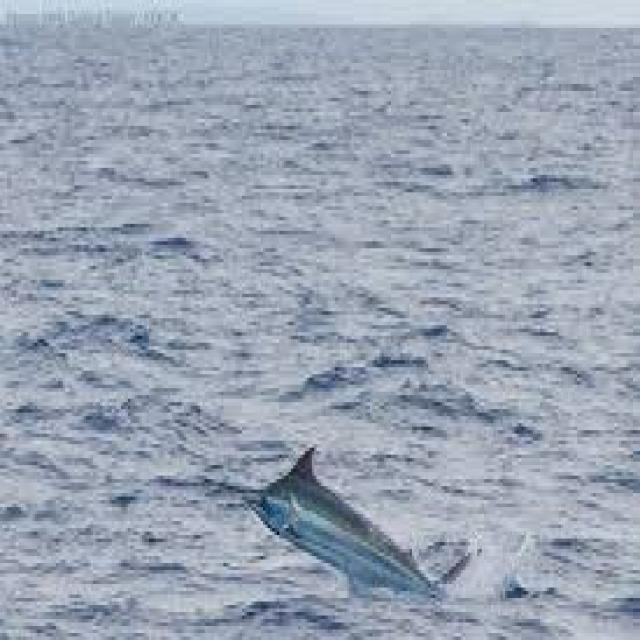Blue Marlin: (191, 440, 472, 594)
